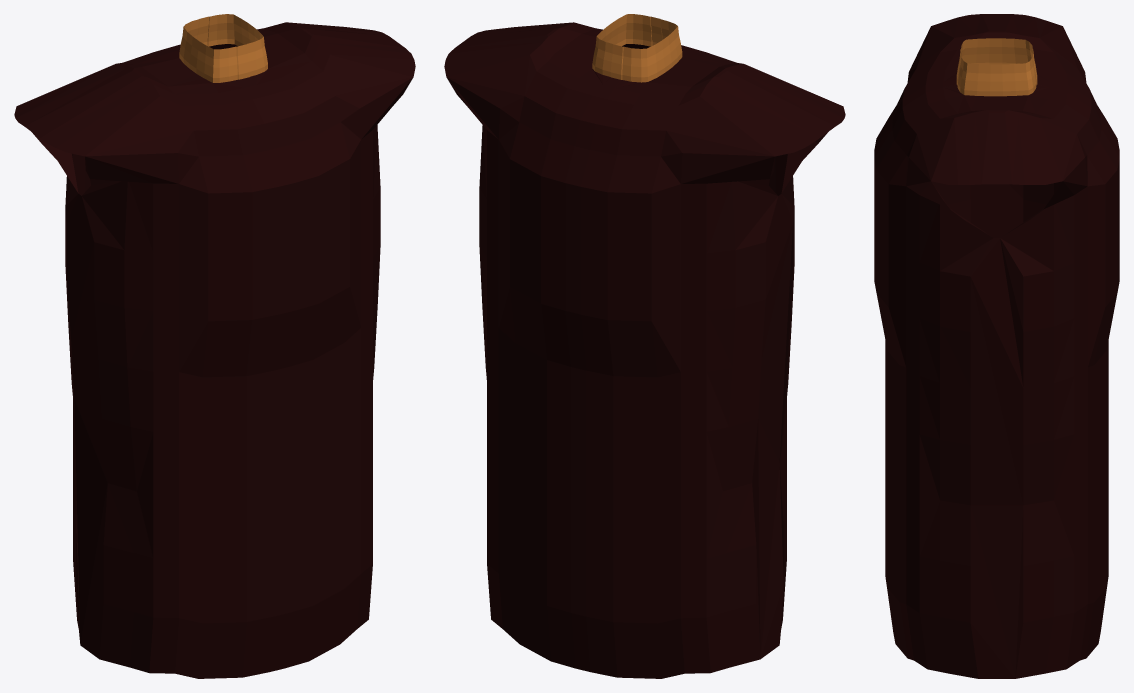
The model's file is P_body.obj.
3 views of the same model, side by side, from view 1: azimuth 30°, elevation 25°; view 2: azimuth 150°, elevation 25°; view 3: azimuth 270°, elevation 25° (orthographic). The views are drawn at different scales.
Visible parts, largest first — view 1: Plane; view 2: Plane; view 3: Plane.
Boxes of the visible parts, left/top/right/bottom form: Plane: left=14, top=14, right=415, bottom=678; Plane: left=444, top=14, right=845, bottom=678; Plane: left=874, top=14, right=1119, bottom=678.
Size of the model in its own units: 0.4332 by 0.6796 by 0.262.
